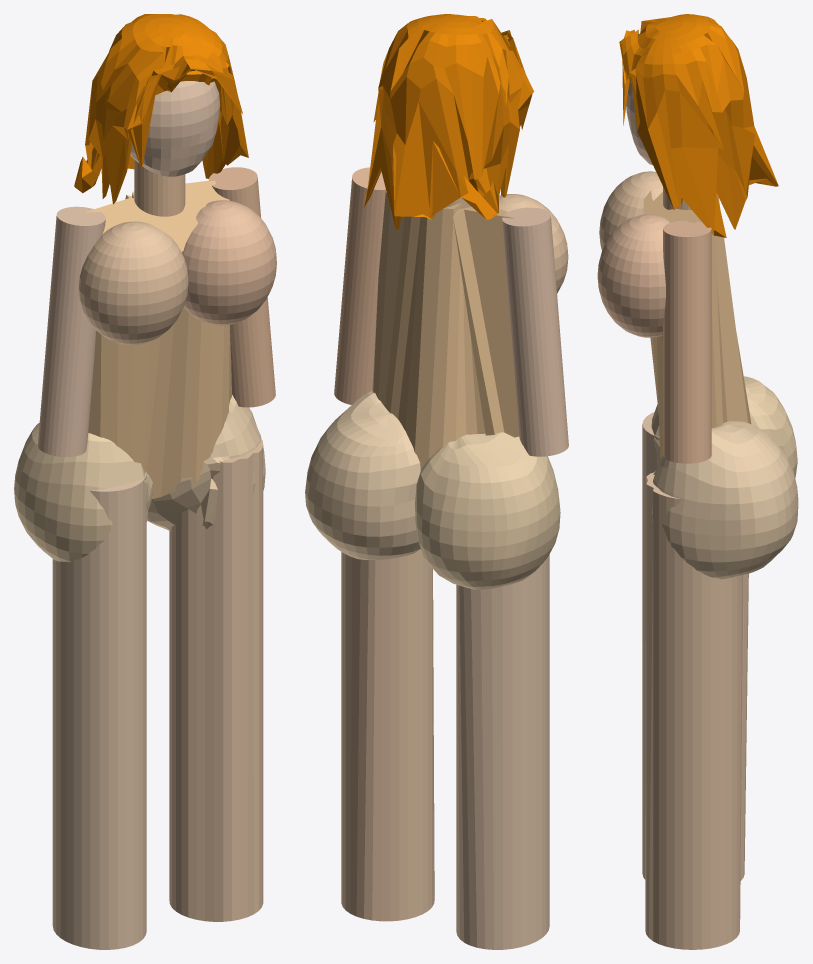
The model's file is Mikaela.fbx.
The picture shows the model from 3 angles, left to right: view 1: azimuth 30°, elevation 25°; view 2: azimuth 150°, elevation 25°; view 3: azimuth 270°, elevation 25°; orthographic projection.
Visible parts, largest first — view 1: Cylinder.003, Cylinder, Cylinder.016, Sphere.006, Cylinder.006, Sphere.003, Sphere.001, Sphere, Sphere.004, Cylinder.005, Sphere.002, Cylinder.004; view 2: Cylinder, Cylinder.003, Cylinder.016, Sphere.006, Sphere.003, Sphere.002, Cylinder.006, Cylinder.005, Sphere.001; view 3: Cylinder.003, Sphere.006, Sphere.002, Cylinder.005, Sphere, Cylinder.016, Cylinder, Sphere.003, Sphere.001, Sphere.004.
Part boxes in pixels (x1,y1,x2,y2): Cylinder.003: [169, 438, 263, 921]; Cylinder: [52, 471, 146, 949]; Cylinder.016: [86, 180, 231, 499]; Sphere.006: [74, 14, 248, 204]; Cylinder.006: [38, 206, 105, 456]; Sphere.003: [14, 423, 152, 562]; Sphere.001: [78, 221, 188, 344]; Sphere: [182, 200, 276, 325]; Sphere.004: [130, 81, 220, 176]; Cylinder.005: [208, 167, 275, 407]; Sphere.002: [147, 395, 265, 530]; Cylinder.004: [134, 159, 185, 216]; Cylinder: [456, 554, 549, 949]; Cylinder.003: [341, 549, 434, 921]; Cylinder.016: [372, 191, 519, 470]; Sphere.006: [364, 14, 534, 229]; Sphere.003: [415, 432, 560, 589]; Sphere.002: [305, 391, 420, 559]; Cylinder.006: [502, 207, 568, 456]; Cylinder.005: [334, 167, 386, 404]; Sphere.001: [498, 194, 568, 293]; Cylinder.003: [645, 472, 743, 949]; Sphere.006: [619, 14, 778, 237]; Sphere.002: [652, 421, 798, 579]; Cylinder.005: [663, 220, 711, 463]; Sphere: [597, 214, 669, 337]; Cylinder.016: [643, 190, 751, 459]; Cylinder: [642, 412, 748, 880]; Sphere.003: [651, 376, 797, 477]; Sphere.001: [599, 171, 662, 250]; Sphere.004: [626, 80, 652, 165].
Size of the model in its own units: 114 by 422 by 87.3.
